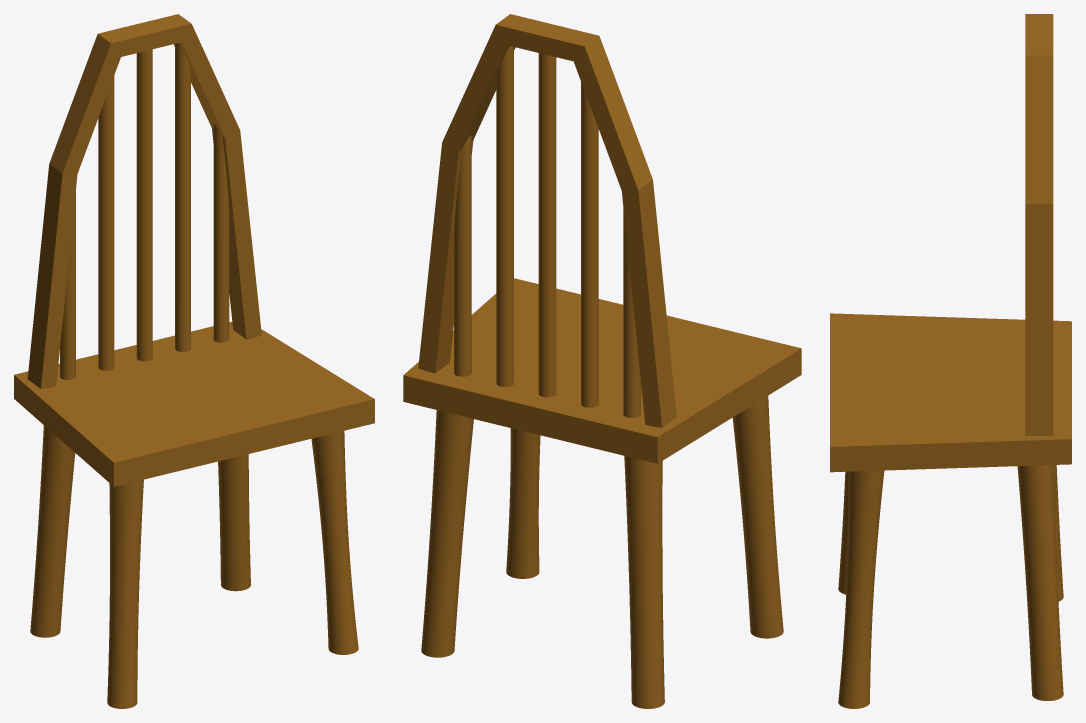
File: Wooden_Chair_Color.fbx
The picture shows the model from 3 angles, left to right: view 1: azimuth 30°, elevation 25°; view 2: azimuth 150°, elevation 25°; view 3: azimuth 270°, elevation 25°; orthographic projection. The views are drawn at different scales.
Visible parts, largest first — view 1: Object; view 2: Object; view 3: Object.
Part boxes in pixels (x1,y1,x2,y2): Object: (14,14,374,708); Object: (403,14,801,708); Object: (830,14,1071,708).
Bounding box in the file's own units: 85 × 181 × 65.
